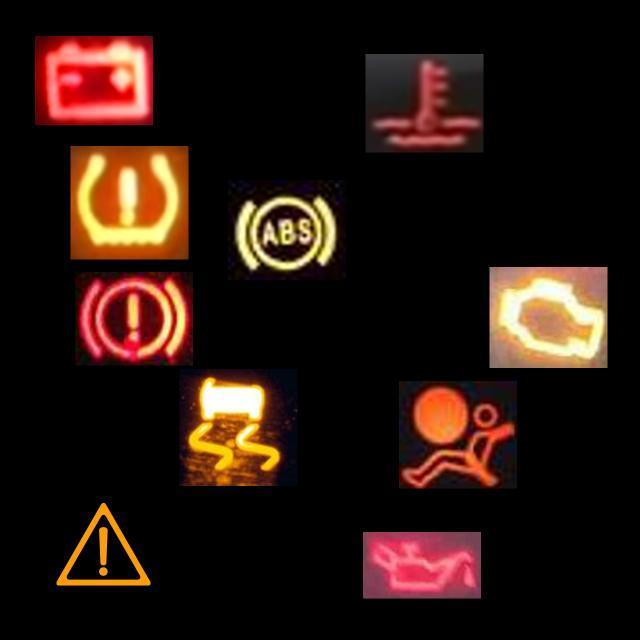Central Warning lamp: (44, 486, 162, 604)
Engine cooling system: (366, 54, 484, 152)
